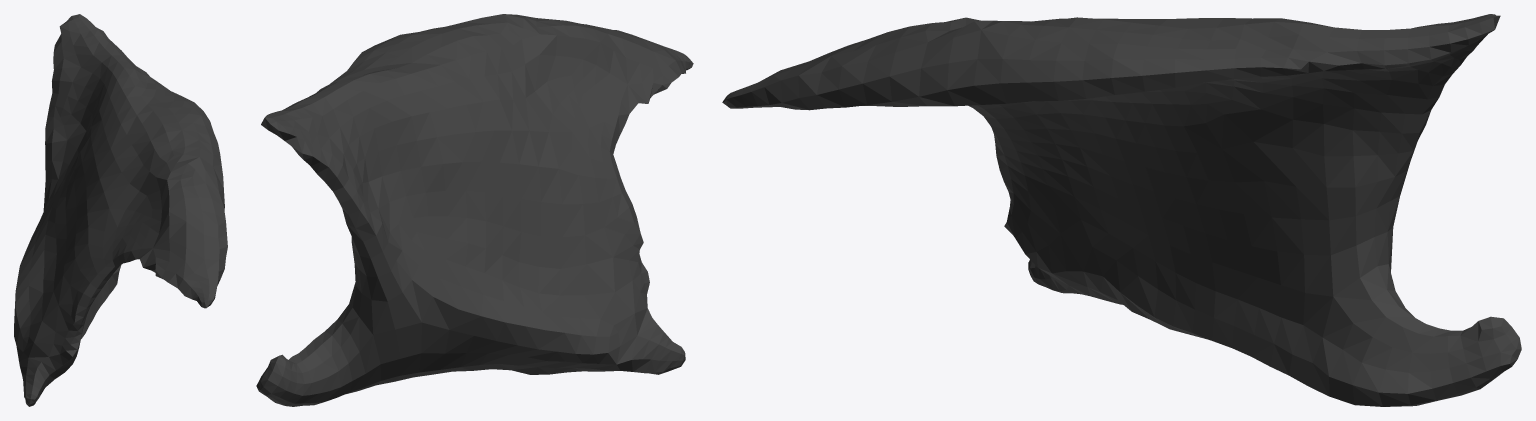
Rendered from Pterygoid_R.glb.
3 views of the same model, side by side, from view 1: azimuth 30°, elevation 25°; view 2: azimuth 150°, elevation 25°; view 3: azimuth 270°, elevation 25° (orthographic). The views are drawn at different scales.
Visible parts, largest first — view 1: Pterygoid_R; view 2: Pterygoid_R; view 3: Pterygoid_R.
Part boxes in pixels (bbox=[...]): Pterygoid_R: bbox=[14, 14, 227, 406]; Pterygoid_R: bbox=[256, 14, 693, 406]; Pterygoid_R: bbox=[722, 14, 1521, 406].
Size of the model in its own units: 64.45 by 73.82 by 127.
1 material, 1 textured.
